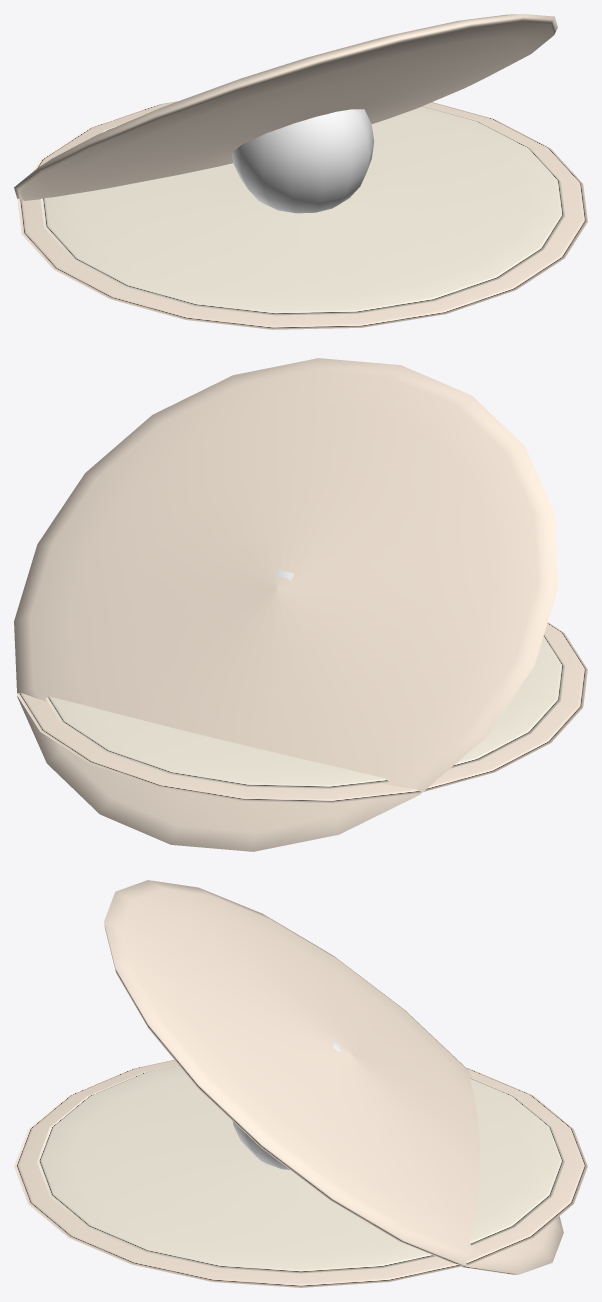
The model's file is pearl_shell.glb.
3 renders of one model, top to bottom at view 1: azimuth 30°, elevation 25°; view 2: azimuth 150°, elevation 25°; view 3: azimuth 270°, elevation 25°, orthographic.
Visible parts, largest first — view 1: pearl_shell; view 2: pearl_shell; view 3: pearl_shell.
Boxes of the visible parts, left/top/right/bottom form: pearl_shell: left=14, top=14, right=587, bottom=329; pearl_shell: left=14, top=358, right=587, bottom=851; pearl_shell: left=14, top=880, right=587, bottom=1287.
Bounding box in the file's own units: 0.5583 × 0.3354 × 0.5583.
